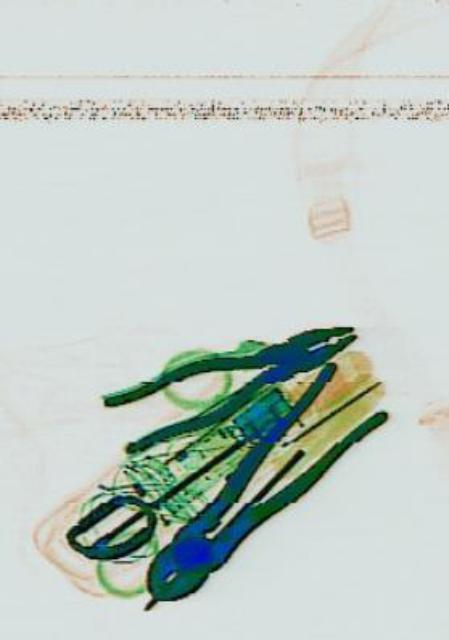Pliers: (127, 338, 386, 634), (98, 294, 361, 460)
